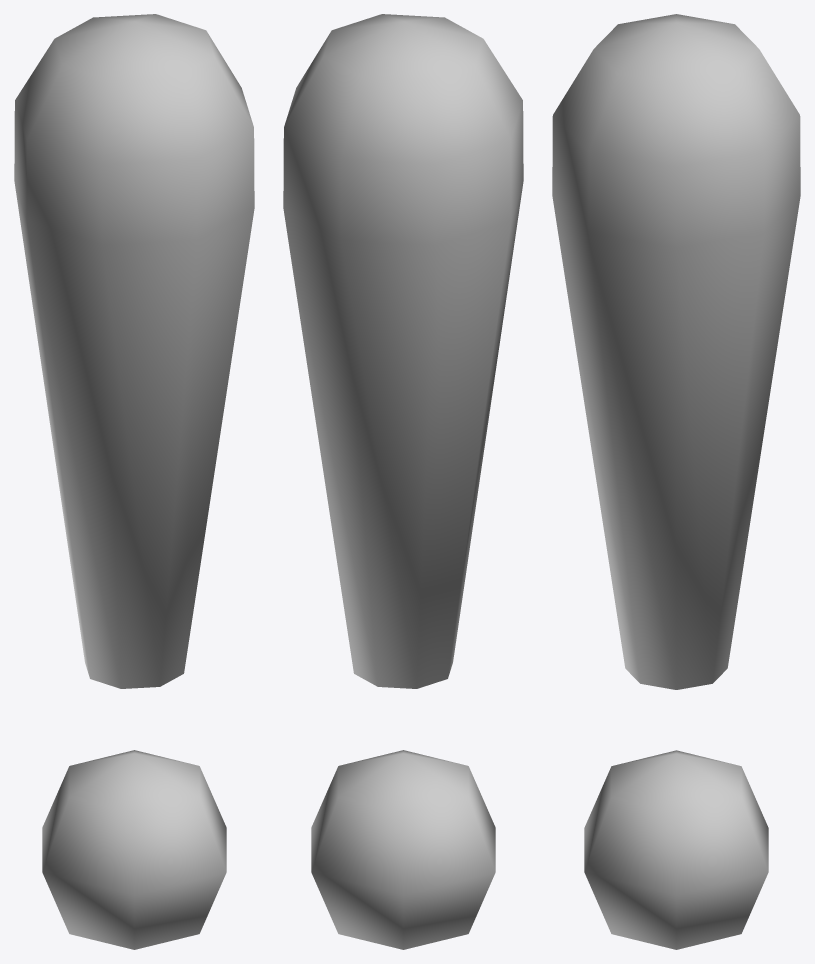
The model's file is SD_Qwest_emoticon_01.fbx.
3 views of the same model, side by side, from view 1: azimuth 30°, elevation 25°; view 2: azimuth 150°, elevation 25°; view 3: azimuth 270°, elevation 25° (orthographic).
Visible parts, largest first — view 1: polySurface1; view 2: polySurface1; view 3: polySurface1.
Boxes of the visible parts, x1=… form: polySurface1: x1=14, y1=14, x2=254, y2=949; polySurface1: x1=283, y1=14, x2=523, y2=949; polySurface1: x1=552, y1=14, x2=800, y2=949.
Bounding box in the file's own units: 0.3662 × 1.5 × 0.3662.
